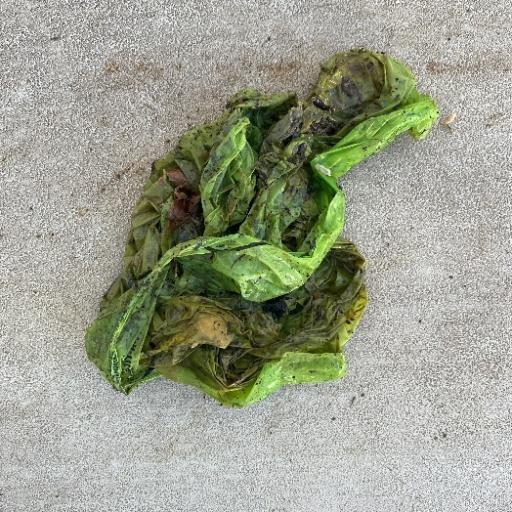Waste: (83, 46, 441, 409)
